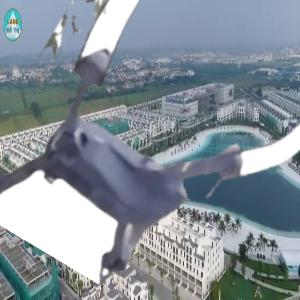drone: (8, 2, 300, 295)
